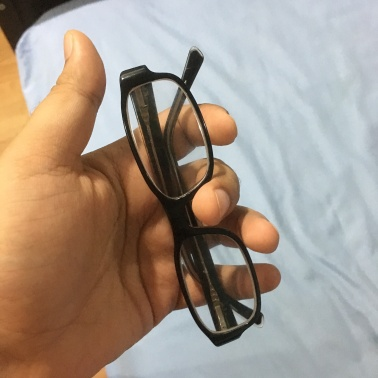glasses: (92, 55, 297, 343)
